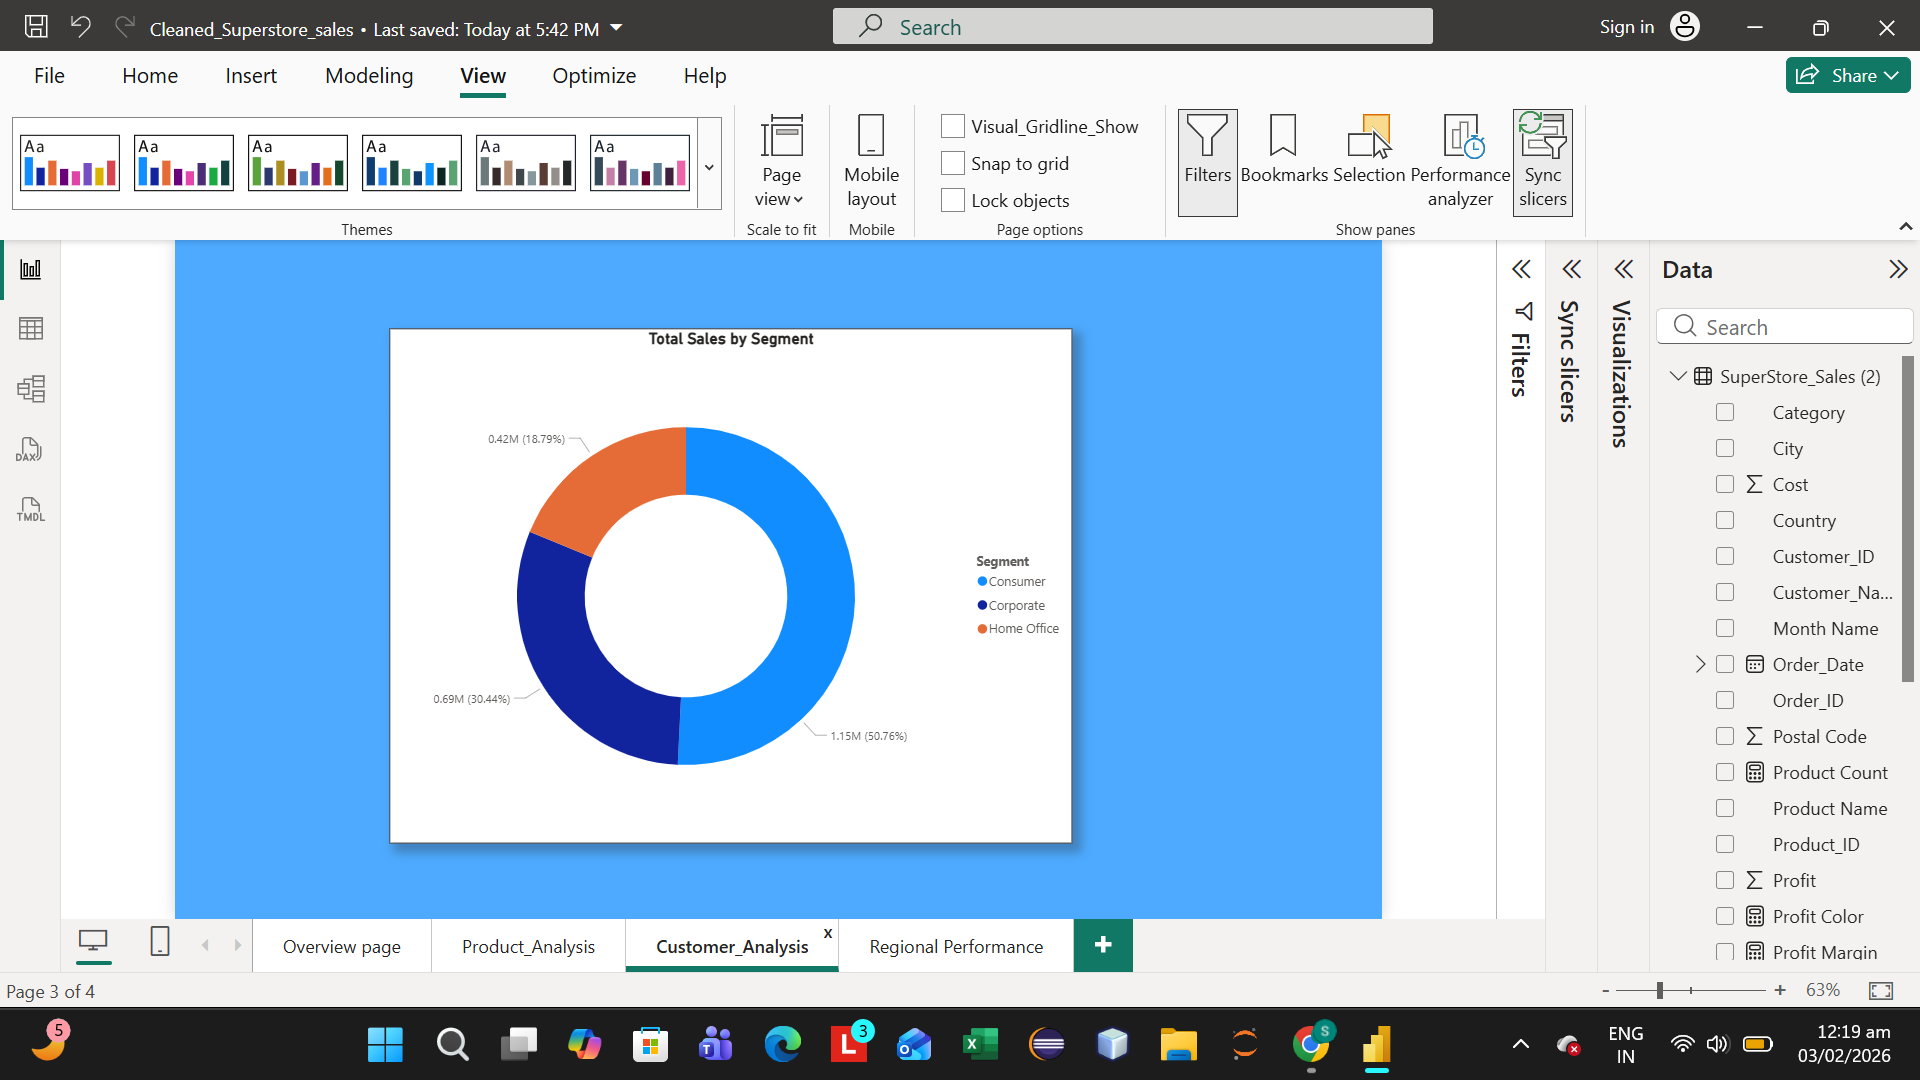

What the dashboard file says about the page in this screenshot:
{"tool":"powerbi","page":{"name":"Customer_Analysis","canvas":[1280,720],"ordinal":2},"visuals":[{"type":"donutChart","fields":{"Category":["SuperStore_Sales (2).Segment"],"Y":["SuperStore_Sales (2).Total Sales"]},"box":[226.8,94.5,723.8,546.1],"z":0}]}

Visuals, with their boxes on the page's 1280x720 design canvas (x1, y1, x2, y2). These are canvas units, not pixel positions in the 1920x1080 screenshot, which may show the page scaled, cropped or inside an application window:
donutChart - SuperStore_Sales (2).Segment x SuperStore_Sales (2).Total Sales: 227,94,951,641
